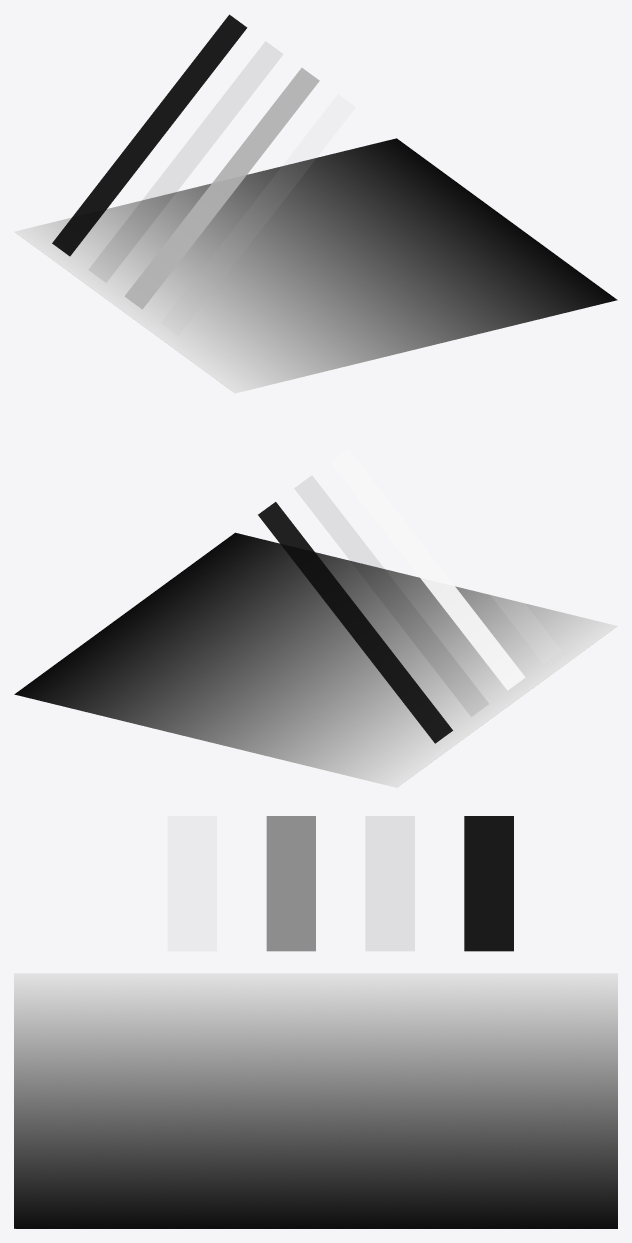
The model's file is teapot scene four.glb.
The picture shows the model from 3 angles, top to bottom: view 1: azimuth 30°, elevation 25°; view 2: azimuth 150°, elevation 25°; view 3: azimuth 270°, elevation 25°; orthographic projection. The views are drawn at different scales.
Visible parts, largest first — view 1: plane, plane.003; view 2: plane, plane.003; view 3: plane, plane.003.
Boxes of the visible parts, box(x1,y1,x2,y2) form: plane: box(14, 138, 617, 393); plane.003: box(52, 14, 319, 309); plane: box(14, 532, 617, 787); plane.003: box(258, 449, 525, 743); plane: box(14, 973, 617, 1228); plane.003: box(266, 816, 513, 951).
Size of the model in its own units: 40.01 by 20.15 by 40.
Materials: 2 (2 with a texture image).
